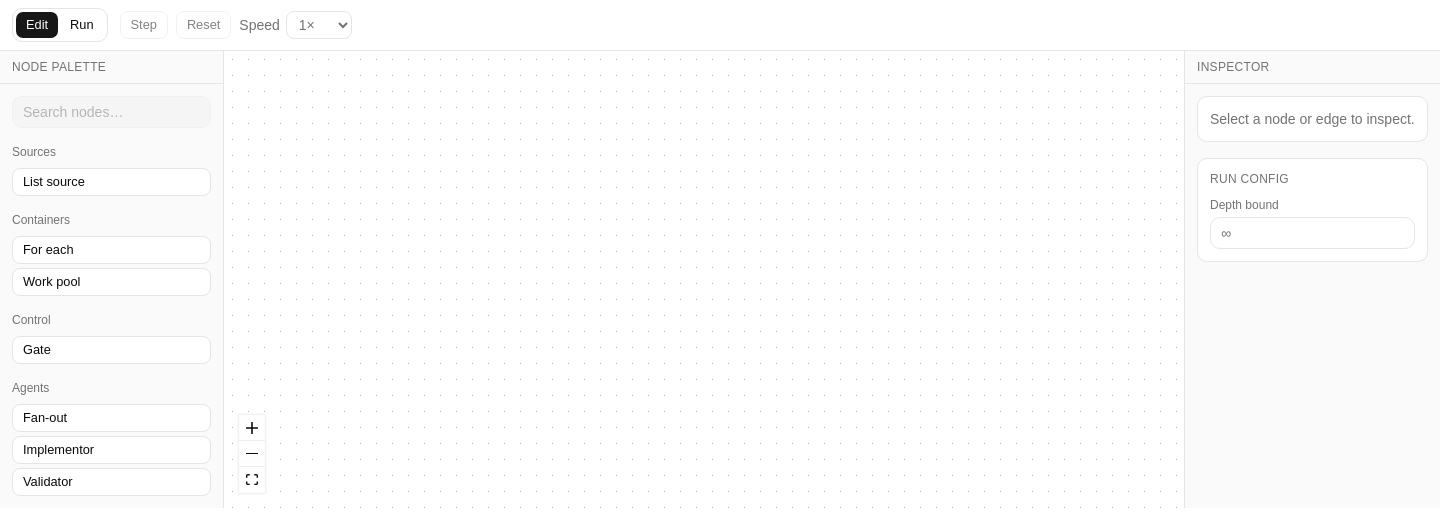
it: Edit/Run controls › toggles Edit/Run and enables step-based controls only in Run
expect the button with test id "run-step" is disabled: met, box [120,11,168,39]
expect the button with test id "run-reset" is disabled: met, box [176,11,231,39]
Click the button with test id "mode-run".
click(82, 25)  # box [59,11,105,39]
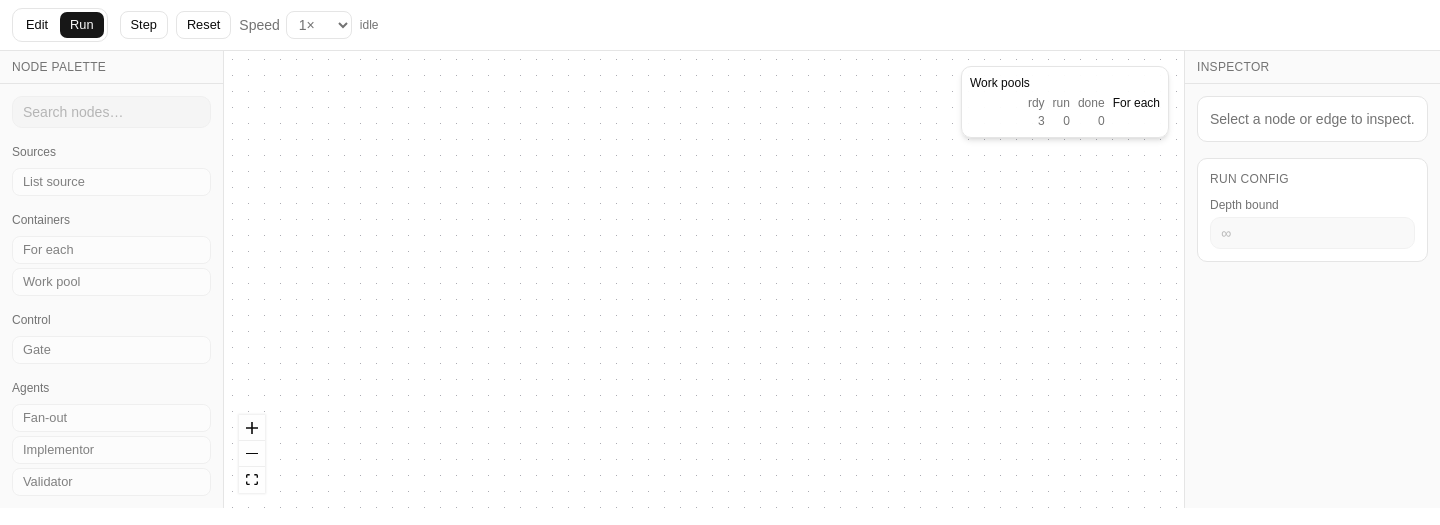
expect the dropdown with test id "run-speed" is enabled: met, box [286,11,352,39]
expect the button with test id "run-step" is enabled: met, box [120,11,168,39]
expect the button with test id "run-reset" is enabled: met, box [176,11,231,39]
Click the button with test id "mode-edit".
click(37, 25)  # box [15,11,59,39]
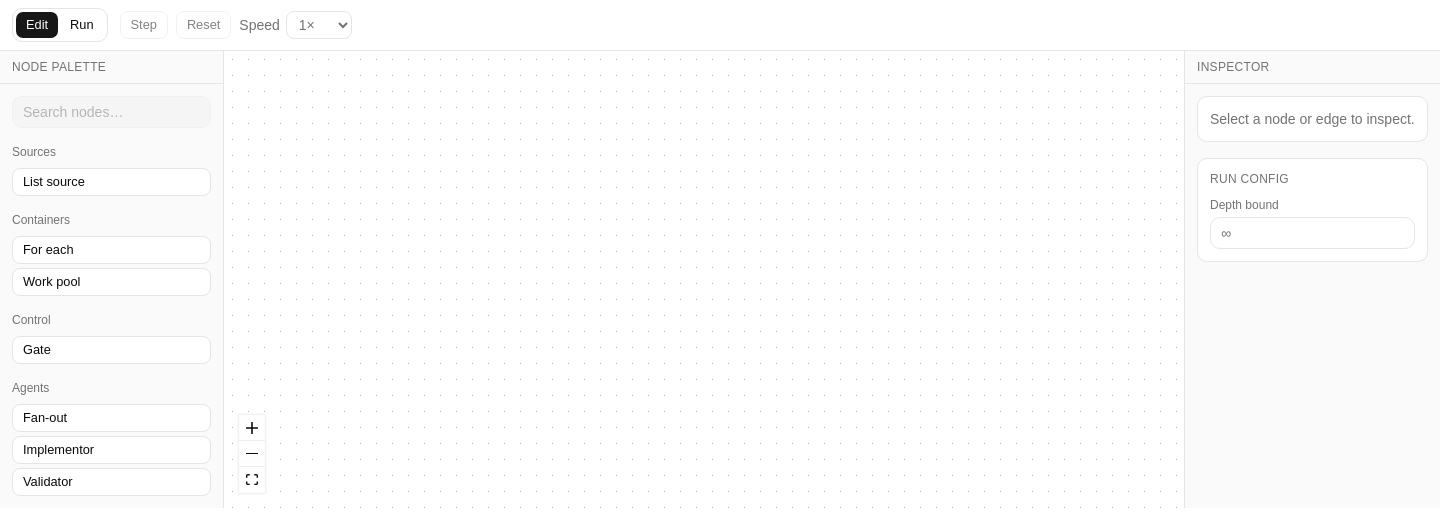
expect the button with test id "run-step" is disabled: met, box [120,11,168,39]
